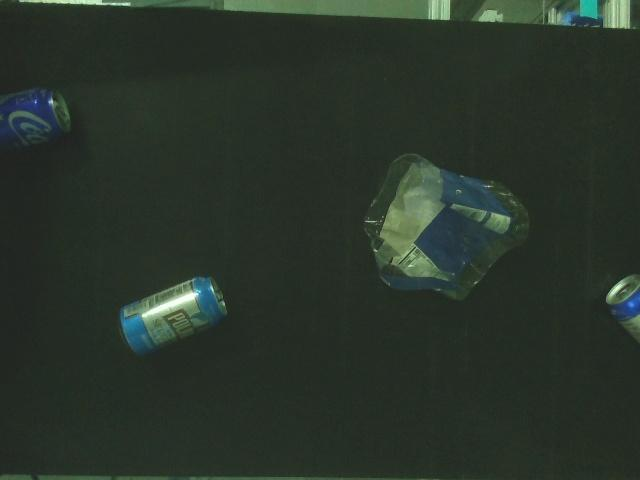metal: (117, 274, 229, 360), (0, 82, 74, 158), (604, 270, 640, 346)
plastic: (362, 149, 534, 304)
